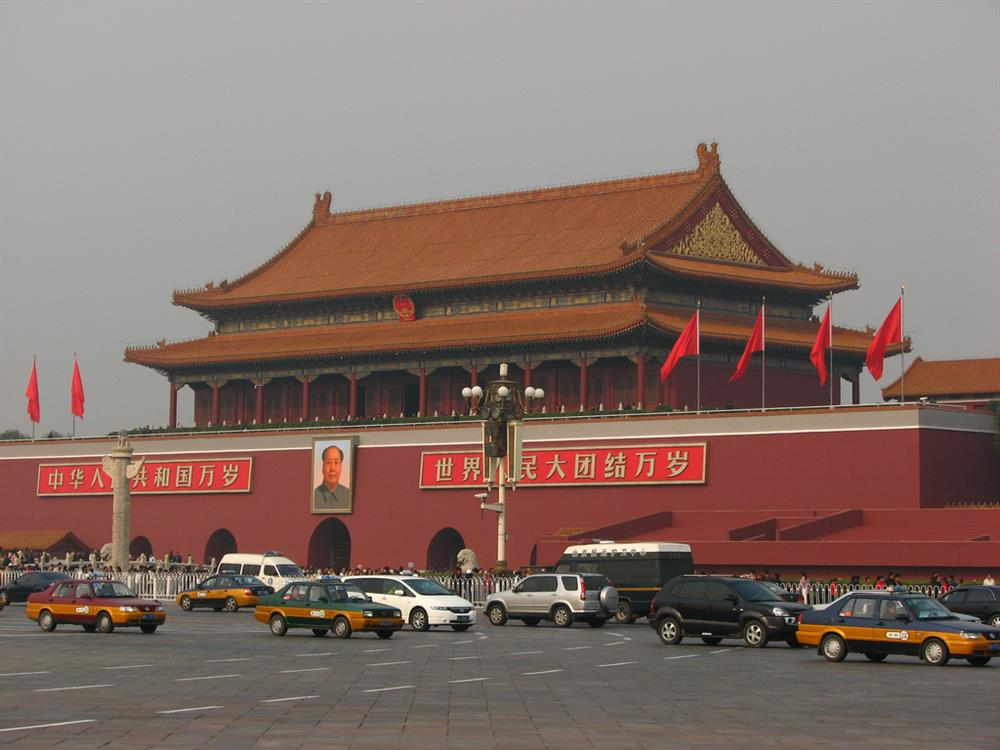Tiananmen: (0, 134, 997, 580)
